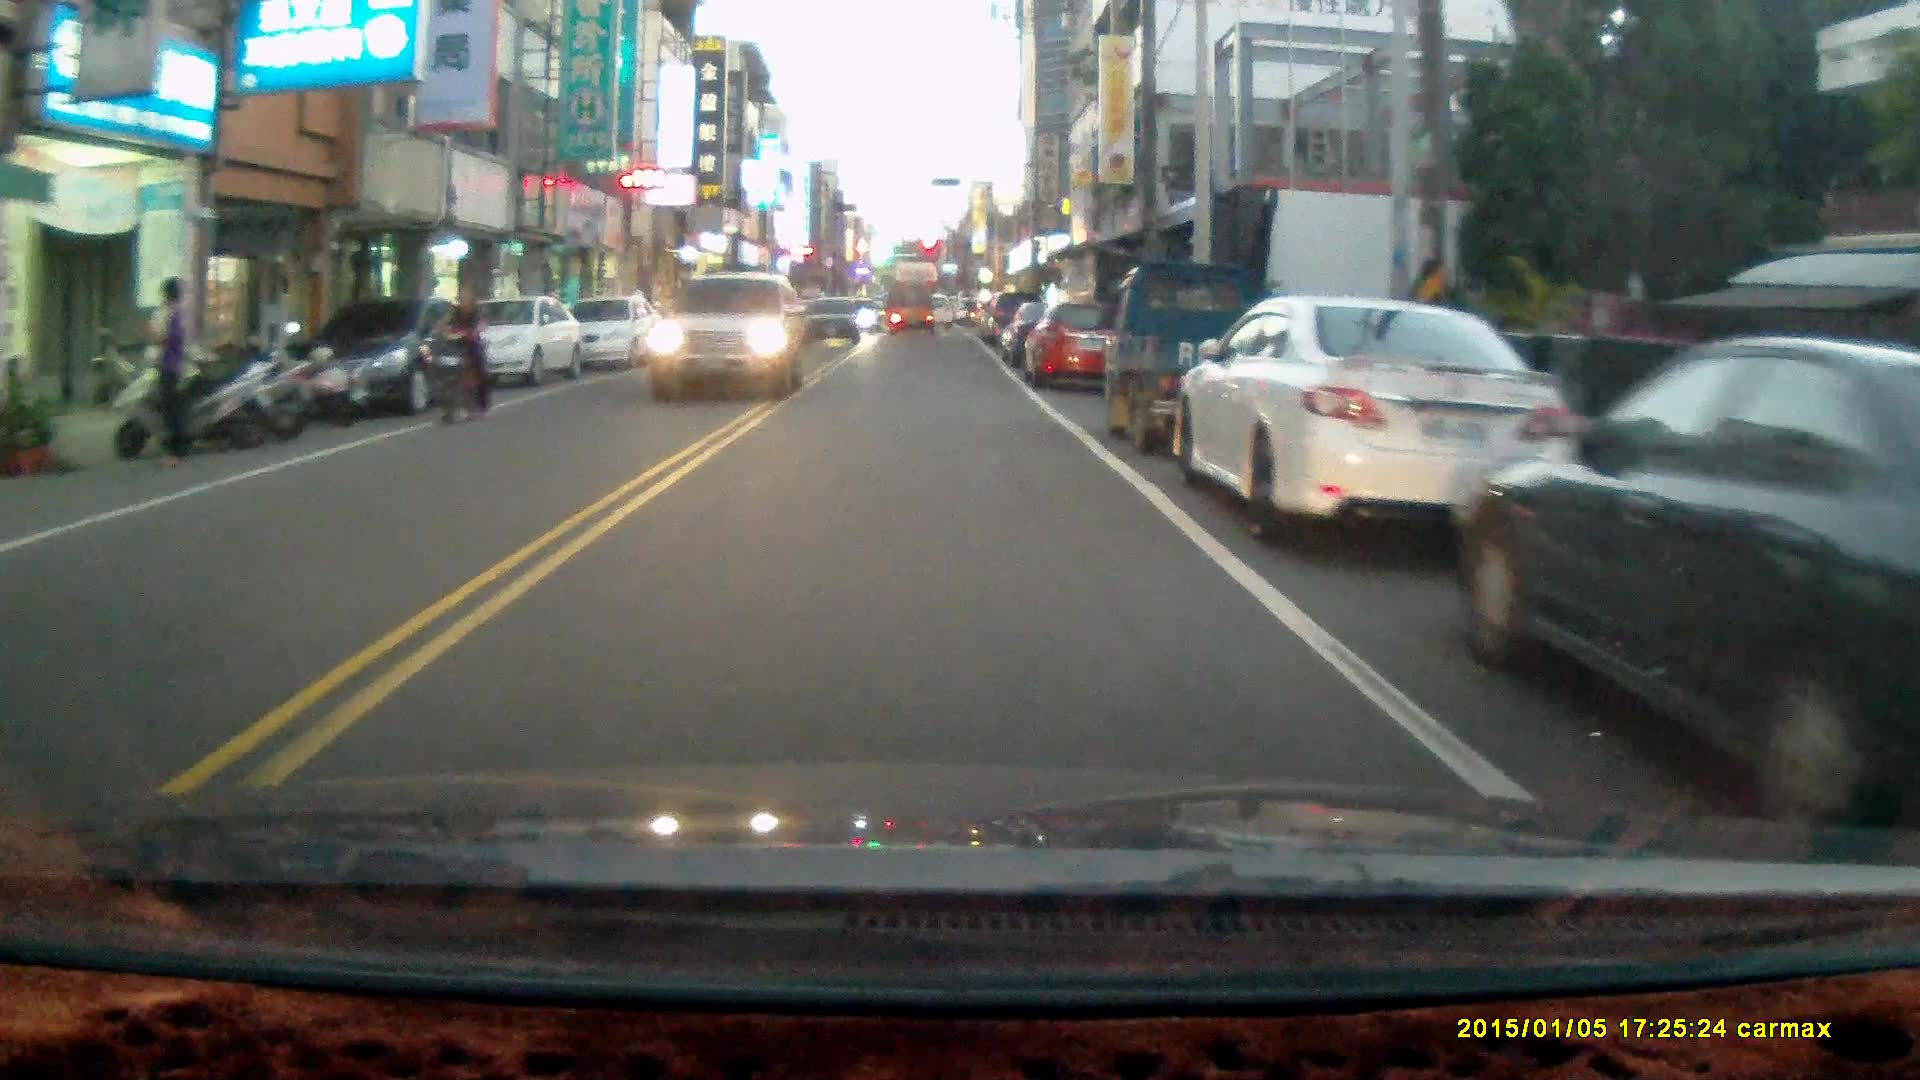pedestrian: (132, 273, 188, 470)
rider: (430, 278, 491, 422)
vehicle: (1461, 333, 1920, 857), (1175, 295, 1581, 542), (1101, 256, 1298, 460), (280, 285, 484, 411), (640, 272, 805, 400), (1026, 296, 1120, 392), (560, 298, 663, 370), (799, 296, 863, 349), (886, 279, 939, 336)
